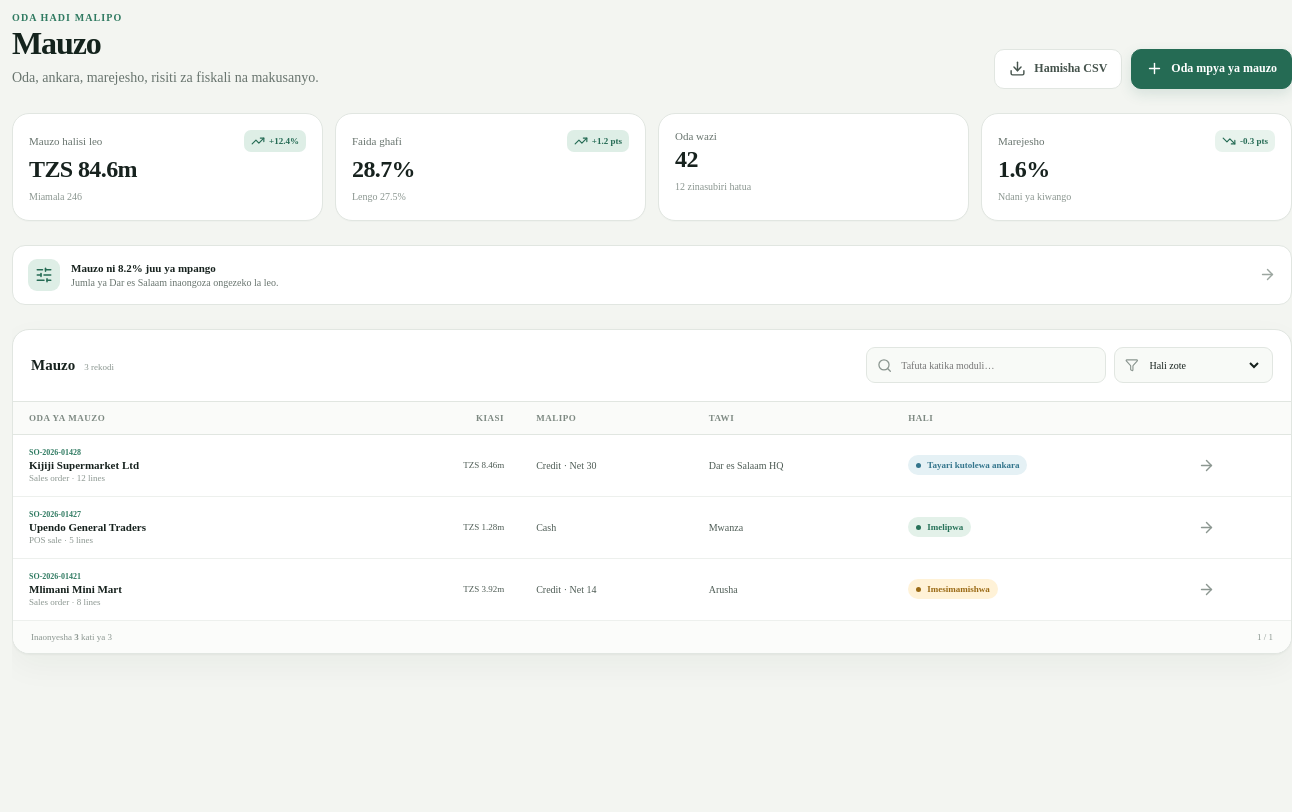
Test: ModulePageView › uses the persisted Swahili locale and filters records
Type "Mlimani" into the field with placeholder "Tafuta katika moduli…".
click(997, 365); type("Mlimani")  # box [899, 359, 1095, 372]
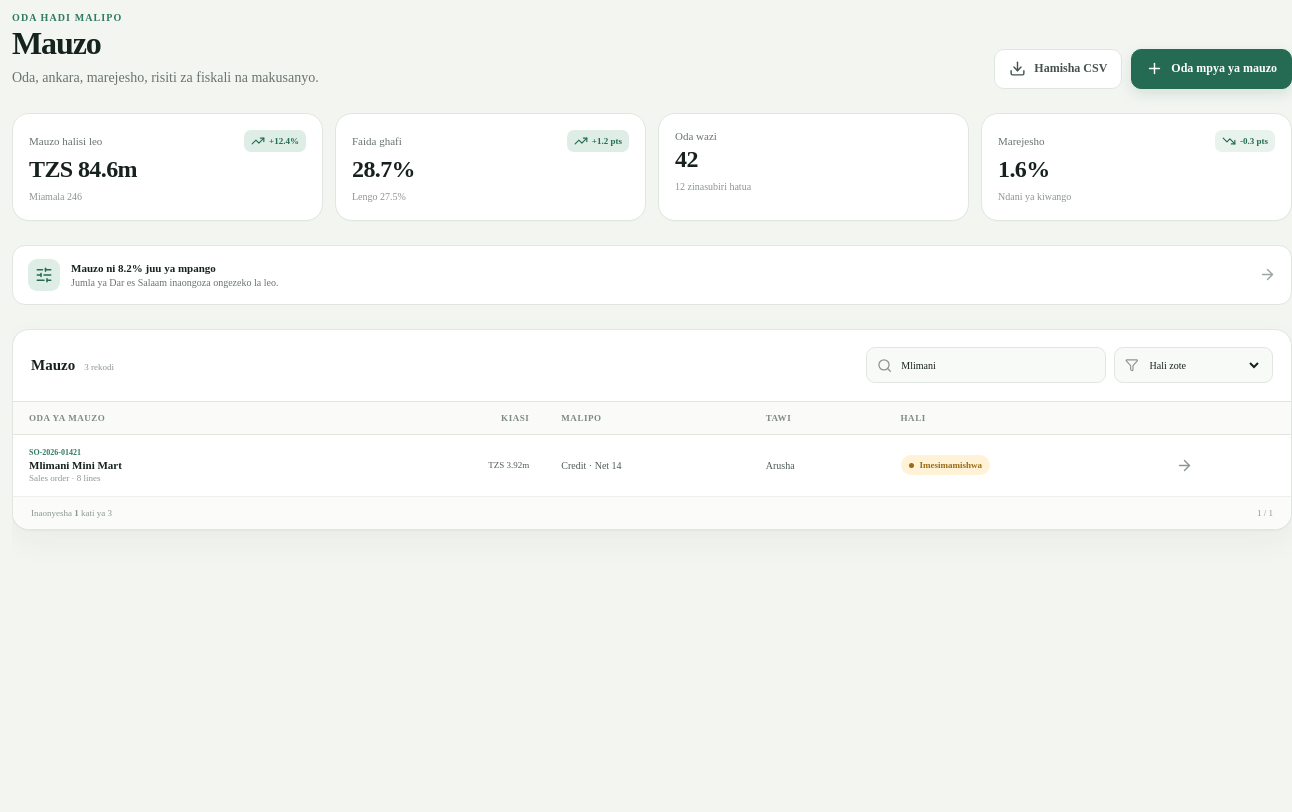
Expected: the text "Mlimani Mini Mart" is shown, [29, 459, 122, 471]
Expected: the link "Kijiji Supermarket Ltd" is gone
